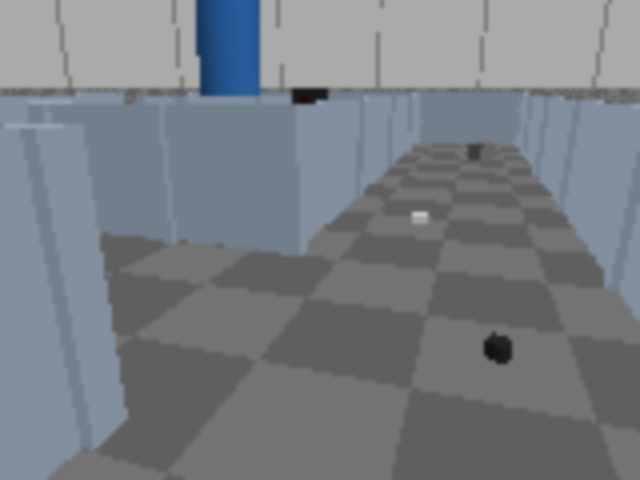puck: (486, 335, 512, 361)
